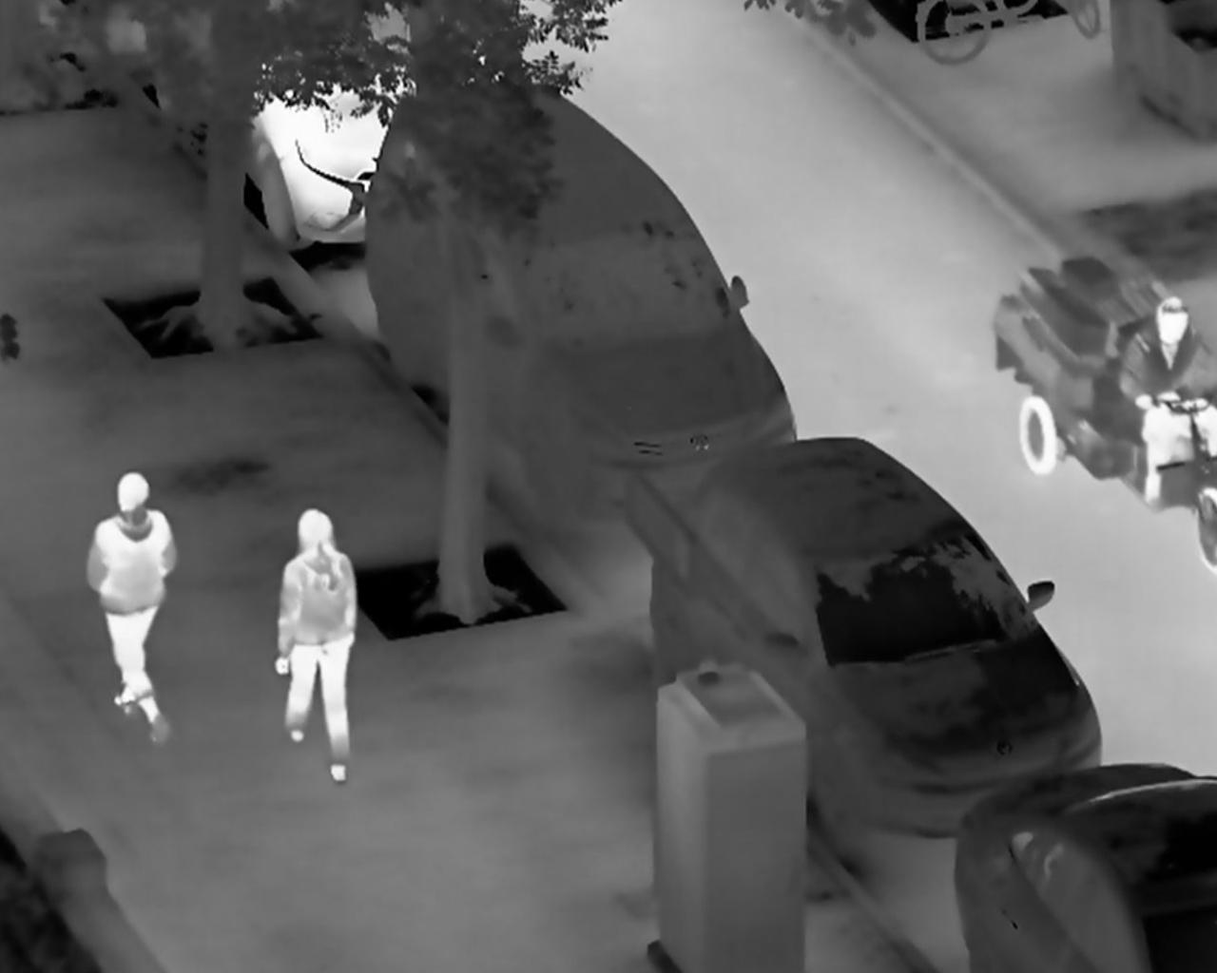person: (83, 471, 178, 747), (273, 508, 357, 783), (1114, 294, 1217, 509)
